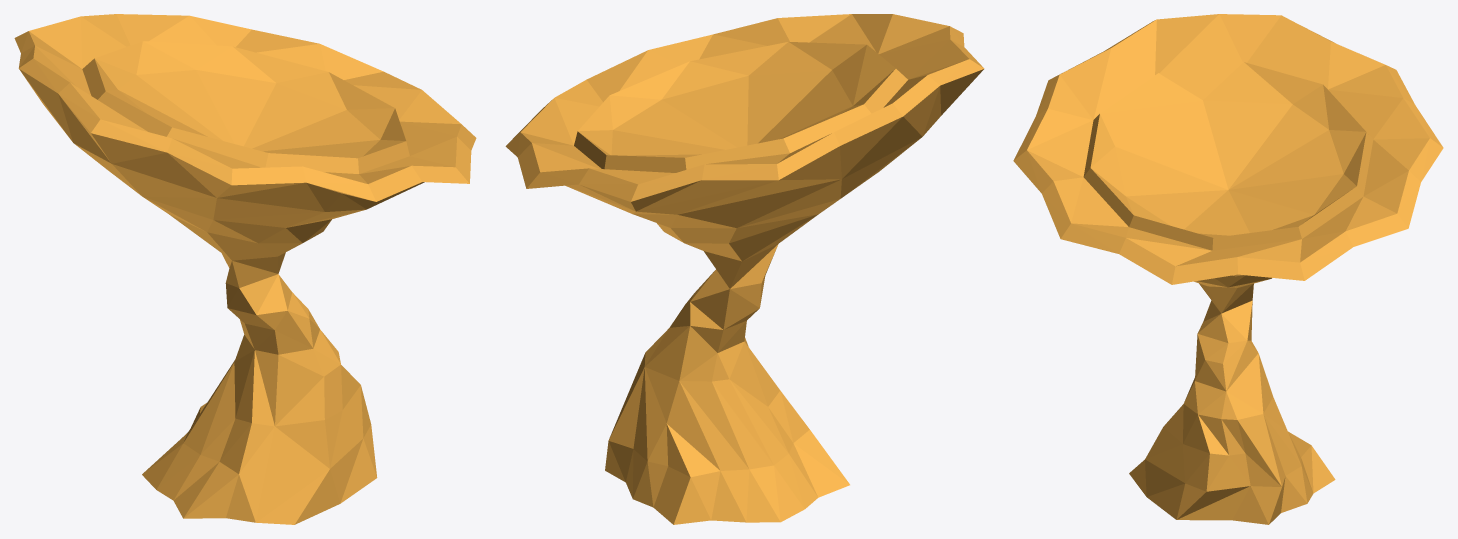
The model's file is mushroom_3.obj.
3 views of the same model, side by side, from view 1: azimuth 30°, elevation 25°; view 2: azimuth 150°, elevation 25°; view 3: azimuth 270°, elevation 25° (orthographic). The views are drawn at different scales.
Visible parts, largest first — view 1: mashroom_3; view 2: mashroom_3; view 3: mashroom_3.
Part boxes in pixels (x1,y1,x2,y2): mashroom_3: [14, 14, 476, 524]; mashroom_3: [505, 14, 984, 524]; mashroom_3: [1013, 14, 1443, 524].
Size of the model in its own units: 0.8717 by 0.9363 by 0.9443.
